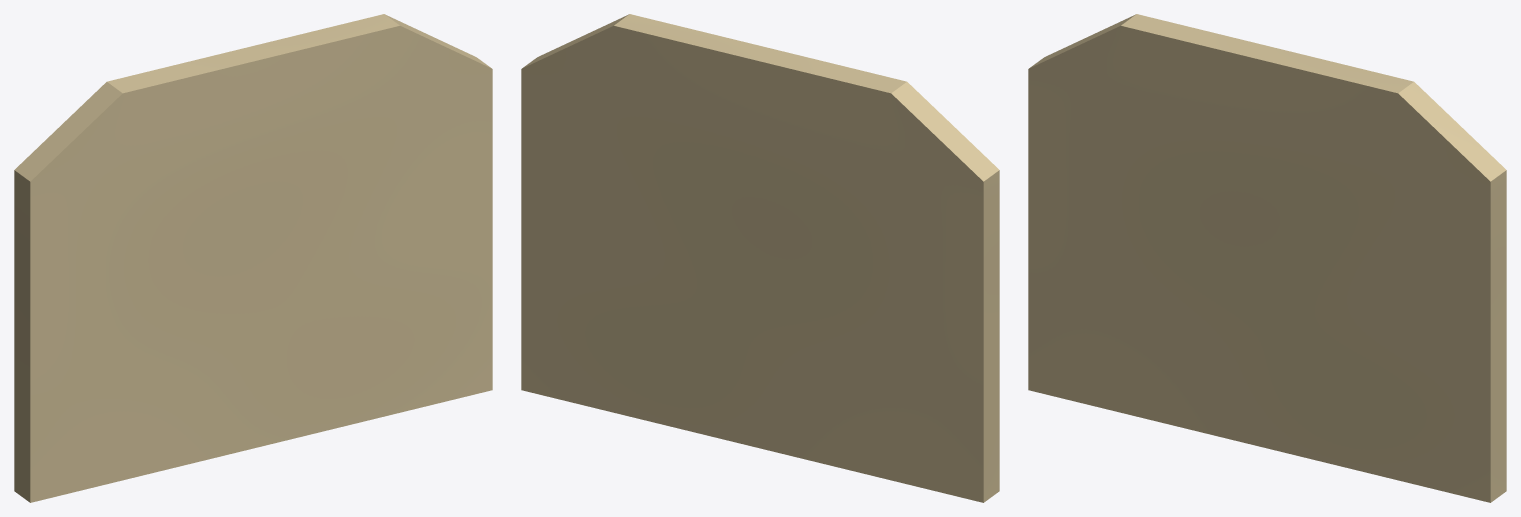
File: WarrensC_CCS80_RouteMarkerPlate_Mars_SM.fbx
The picture shows the model from 3 angles, left to right: view 1: azimuth 30°, elevation 25°; view 2: azimuth 150°, elevation 25°; view 3: azimuth 330°, elevation 25°; orthographic projection.
Parts seen in each view (by area): view 1: WarrensC_CCS80_RouteMarkerPlate_Mars_SM.001; view 2: WarrensC_CCS80_RouteMarkerPlate_Mars_SM.001; view 3: WarrensC_CCS80_RouteMarkerPlate_Mars_SM.001.
Part boxes in pixels (box(x1,y1,x2,y2)): WarrensC_CCS80_RouteMarkerPlate_Mars_SM.001: box(14, 14, 492, 502); WarrensC_CCS80_RouteMarkerPlate_Mars_SM.001: box(521, 14, 999, 502); WarrensC_CCS80_RouteMarkerPlate_Mars_SM.001: box(1028, 14, 1506, 502).
Size of the model in its own units: 50 by 3 by 40.
